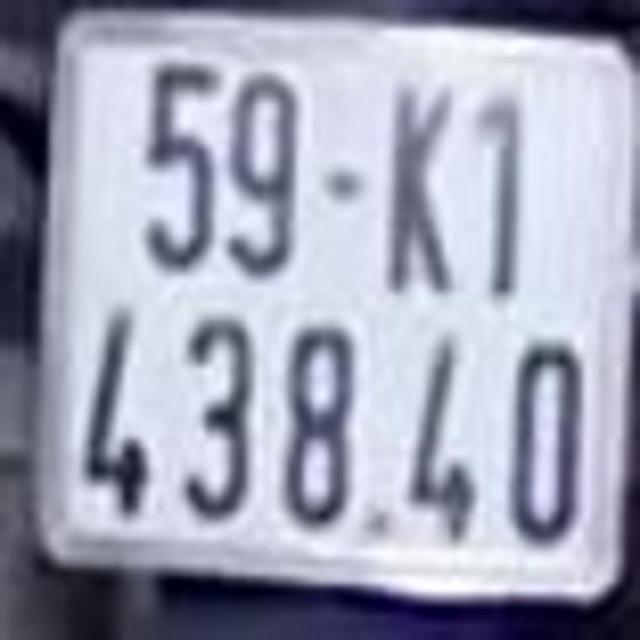0: (504, 324, 580, 542)
1: (468, 72, 520, 300)
3: (173, 307, 256, 527)
4: (402, 322, 480, 543), (80, 300, 151, 519)
5: (140, 55, 216, 272)
8: (284, 313, 359, 528)
9: (228, 67, 298, 279)
K: (381, 70, 462, 300)
